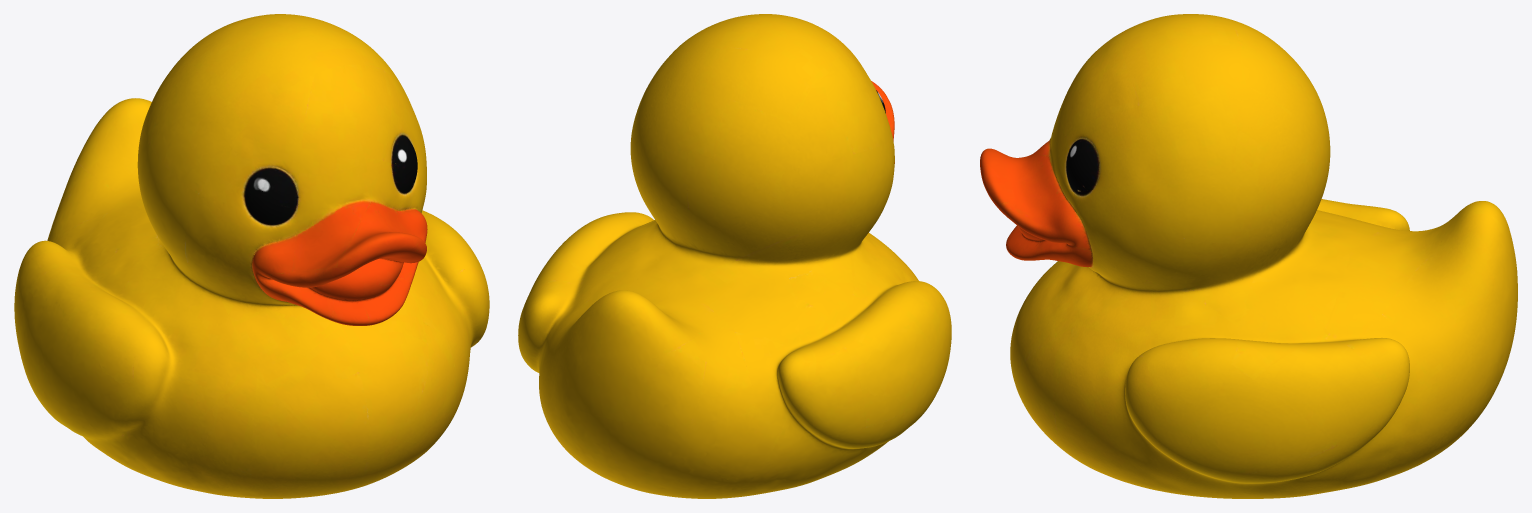
File: patito.glb
3 views of the same model, side by side, from view 1: azimuth 30°, elevation 25°; view 2: azimuth 150°, elevation 25°; view 3: azimuth 270°, elevation 25° (orthographic). The views are drawn at different scales.
Parts seen in each view (by area): view 1: Mesh_0; view 2: Mesh_0; view 3: Mesh_0.
Boxes of the visible parts, x1=… form: Mesh_0: x1=14, y1=14, x2=489, y2=498; Mesh_0: x1=518, y1=14, x2=951, y2=498; Mesh_0: x1=980, y1=14, x2=1517, y2=498.
Size of the model in its own units: 1.63 by 1.63 by 1.9.
1 material, 1 textured.
